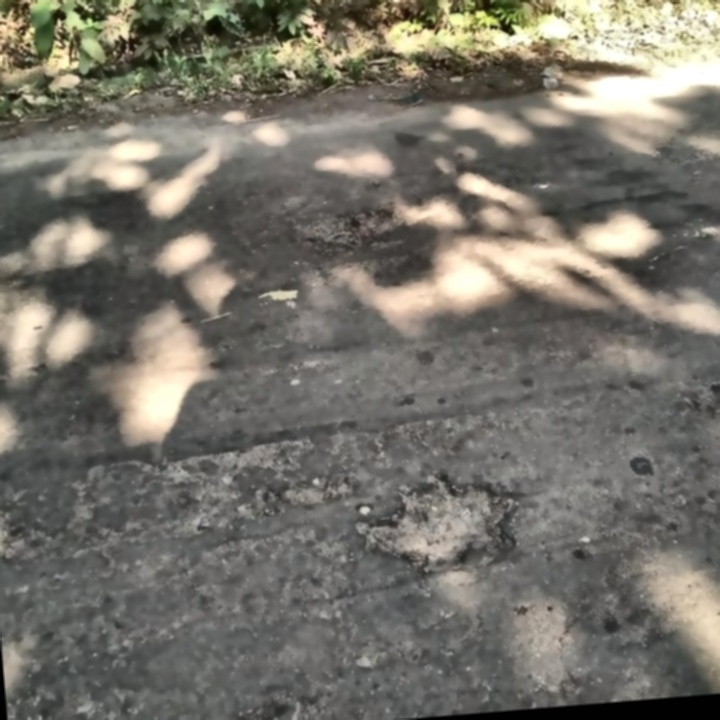pothole: (358, 462, 530, 582), (289, 196, 403, 260)
